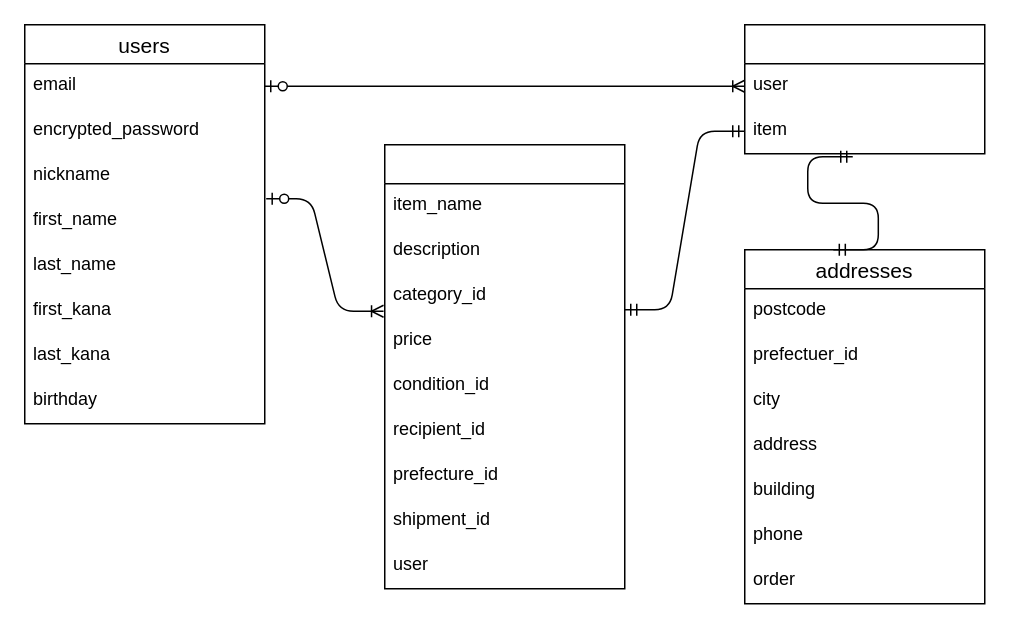
The diagram is 1010 pixels wide and 629 high, and some of its shapes have lost their labels. The shapes that lost their labels are listed below. From the top down, each one's box as (x1, y1, x2, y2) in pixels, then its label:
(743, 23, 985, 154): orders
(383, 143, 625, 589): items
